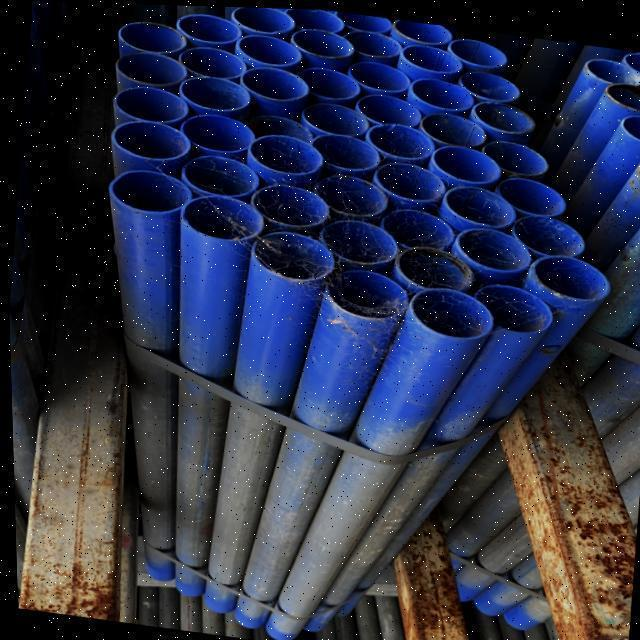pipe: (328, 262, 414, 317), (415, 285, 498, 336), (313, 166, 394, 218), (252, 225, 334, 275), (475, 282, 557, 332), (481, 170, 569, 216), (178, 192, 258, 240), (320, 215, 400, 263), (376, 153, 447, 207), (505, 206, 585, 253), (373, 207, 462, 249), (456, 224, 532, 273), (394, 241, 473, 288), (109, 167, 193, 211), (180, 151, 257, 198), (534, 252, 611, 299), (177, 110, 255, 156), (470, 132, 551, 175), (108, 119, 192, 160), (111, 82, 195, 123), (253, 182, 329, 227), (442, 181, 519, 224), (244, 129, 319, 173), (314, 132, 387, 176), (433, 142, 506, 185), (288, 65, 369, 103), (368, 122, 440, 163), (304, 96, 377, 135), (421, 110, 494, 149), (172, 74, 251, 110), (172, 45, 258, 78), (454, 60, 523, 101), (355, 93, 434, 126), (468, 95, 534, 134), (349, 56, 414, 95), (242, 65, 310, 102), (116, 20, 186, 55), (285, 26, 358, 59), (117, 44, 182, 81), (410, 74, 475, 111), (408, 44, 473, 77), (344, 23, 405, 58), (239, 29, 300, 63), (178, 11, 242, 43), (449, 35, 510, 68), (245, 112, 320, 138), (390, 15, 455, 44), (232, 6, 295, 32), (586, 53, 640, 80), (332, 8, 394, 31), (284, 7, 342, 30), (607, 77, 640, 106), (624, 110, 640, 132), (629, 50, 640, 68)
